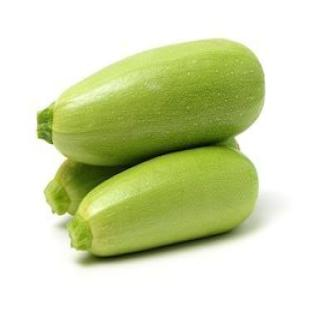Zucchini: (38, 40, 264, 165), (68, 147, 258, 255), (44, 160, 126, 214)
